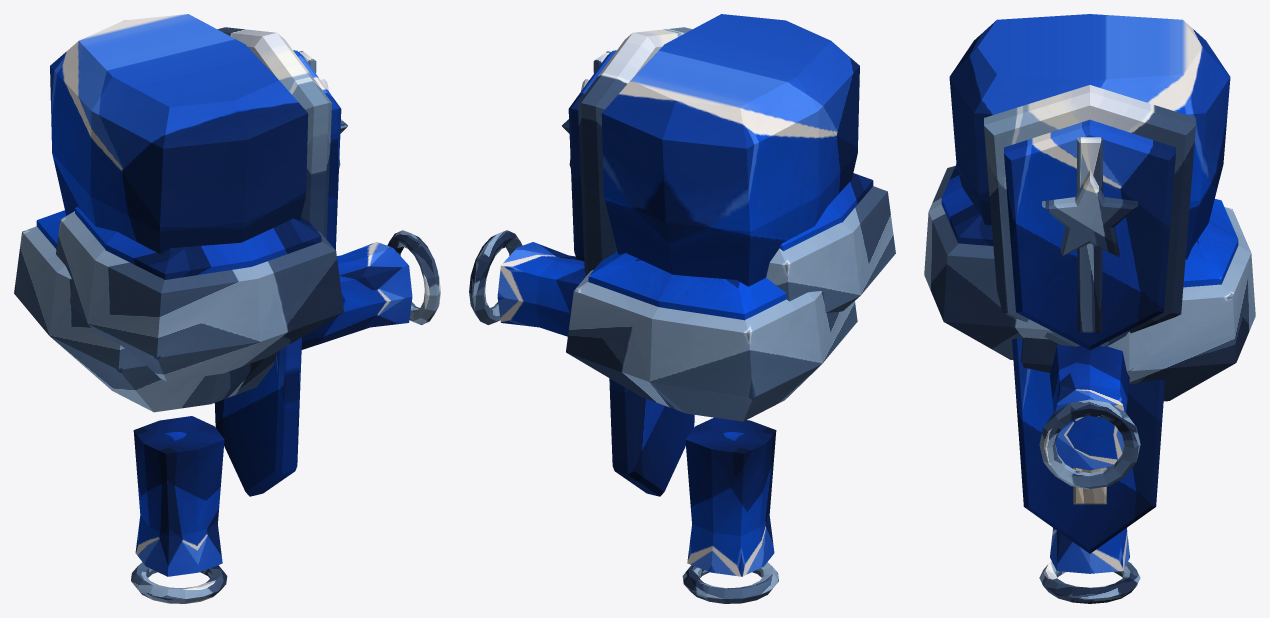
The model's file is cobalt-armor.glb.
3 views of the same model, side by side, from view 1: azimuth 30°, elevation 25°; view 2: azimuth 150°, elevation 25°; view 3: azimuth 270°, elevation 25° (orthographic). The views are drawn at different scales.
Parts seen in each view (by area): view 1: chest, arm_R, arm_L, hips; view 2: chest, arm_L, arm_R, hips; view 3: chest, arm_R, arm_L, hips.
Part boxes in pixels (<box>): chest: <box>50,14,347,254</box>; arm_R: <box>56,206,440,381</box>; arm_L: <box>14,210,276,603</box>; hips: <box>214,337,301,496</box>; chest: <box>562,14,859,286</box>; arm_L: <box>566,251,857,603</box>; arm_R: <box>469,173,895,336</box>; hips: <box>609,378,694,496</box>; chest: <box>949,14,1230,350</box>; arm_R: <box>924,164,1140,489</box>; arm_L: <box>1021,199,1255,603</box>; hips: <box>1012,338,1164,553</box>.
Bounding box in the file's own units: 0.4756 × 0.6858 × 0.38.
3 materials, 3 textured.
